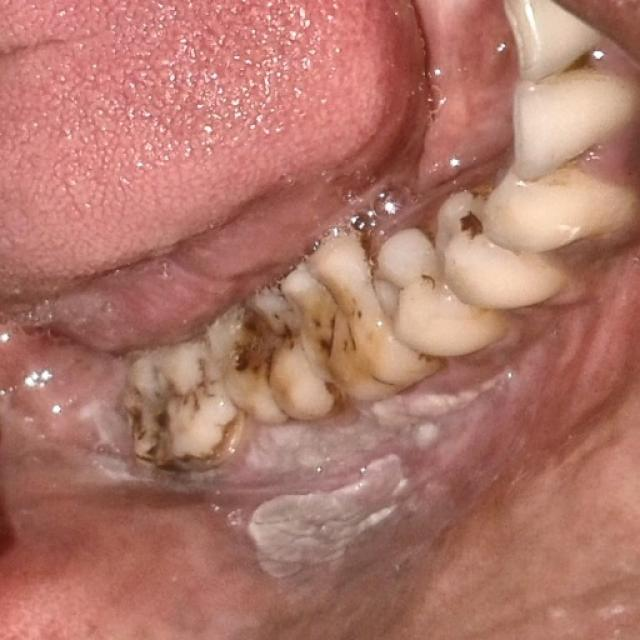leukoplakia-detection: (78, 357, 545, 602)
processing_area: (0, 0, 639, 639)
